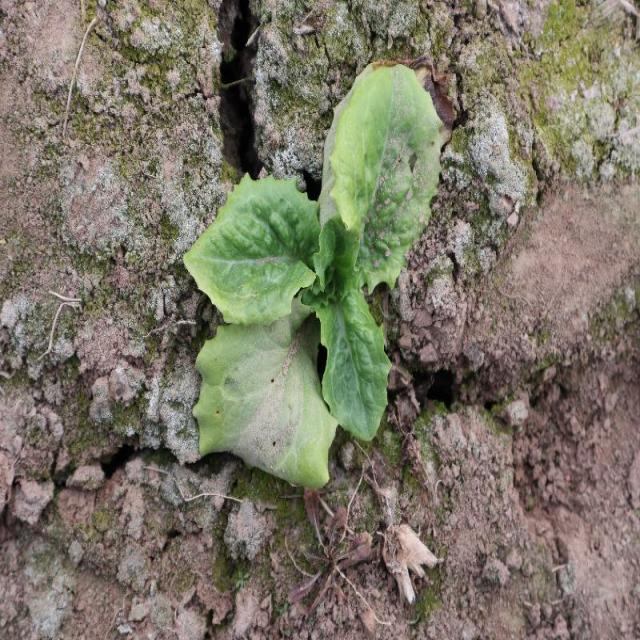crop: (176, 52, 438, 493)
